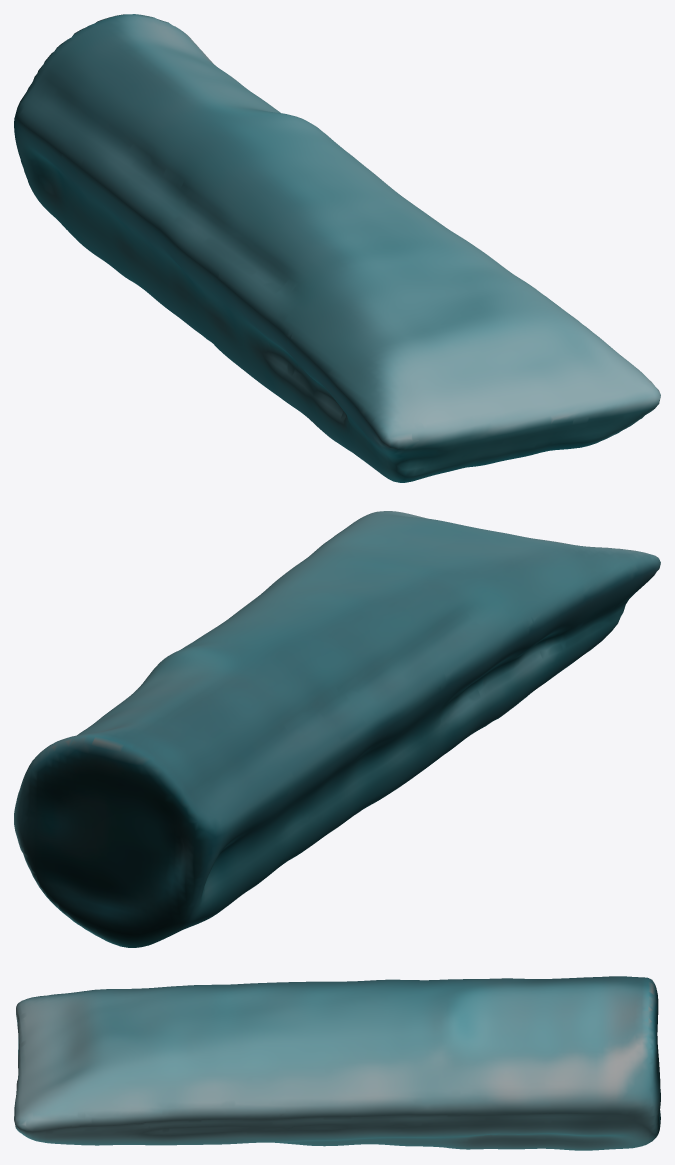
The model's file is oil.glb.
3 renders of one model, top to bottom at view 1: azimuth 30°, elevation 25°; view 2: azimuth 150°, elevation 25°; view 3: azimuth 270°, elevation 25°, orthographic. The views are drawn at different scales.
Size of the model in its own units: 0.3851 by 0.2796 by 0.9994.
